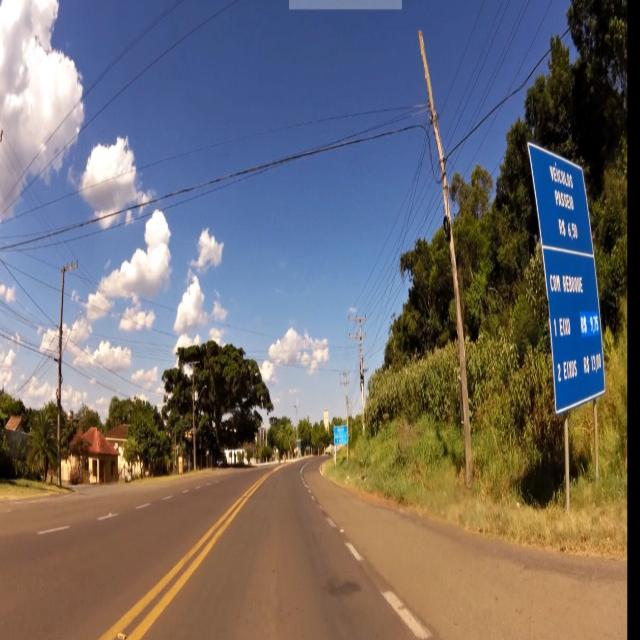LOC-6: (526, 143, 607, 409)
